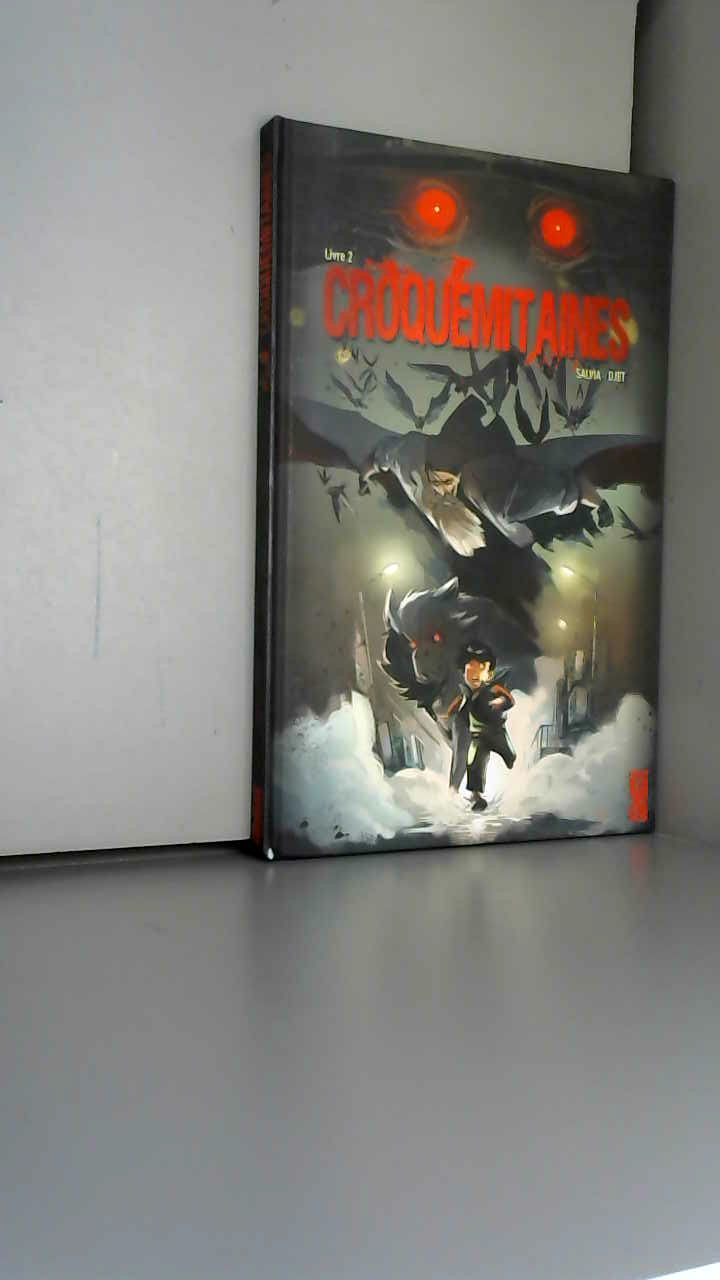book: (220, 90, 716, 890)
